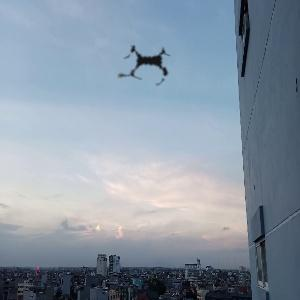drone: (103, 22, 193, 112)
